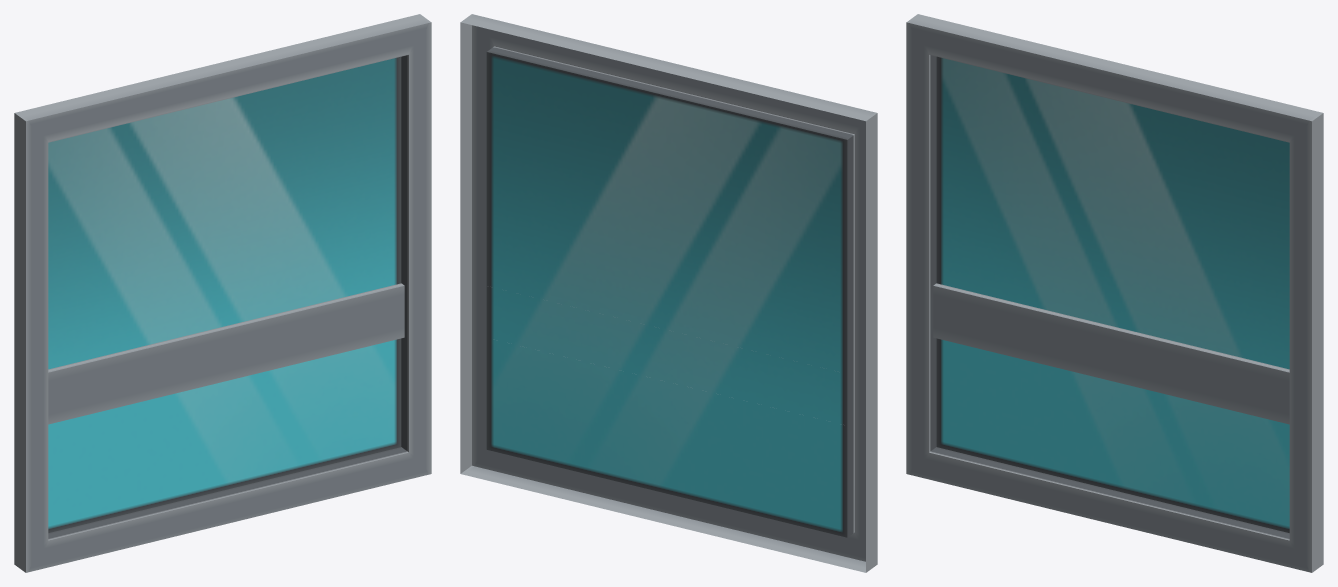
File: glass door.fbx
3 views of the same model, side by side, from view 1: azimuth 30°, elevation 25°; view 2: azimuth 150°, elevation 25°; view 3: azimuth 330°, elevation 25° (orthographic).
Parts seen in each view (by area): view 1: Box095; view 2: Box095; view 3: Box095.
Part boxes in pixels (<box>): Box095: <box>14,14,431,572</box>; Box095: <box>460,14,877,572</box>; Box095: <box>906,14,1323,572</box>.
Bounding box in the file's own units: 47.05 × 50.06 × 2.29.
